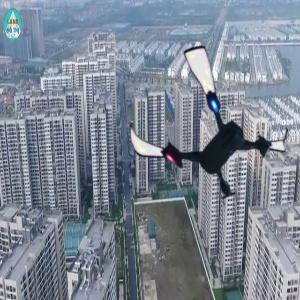drone: (122, 49, 286, 213)
